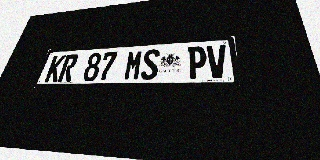7: (97, 52, 118, 81)
8: (82, 53, 103, 81)
K: (44, 55, 66, 82)
M: (123, 50, 144, 80)
P: (187, 46, 207, 79)
R: (57, 54, 79, 82)
S: (140, 49, 160, 80)
V: (206, 45, 228, 79)
